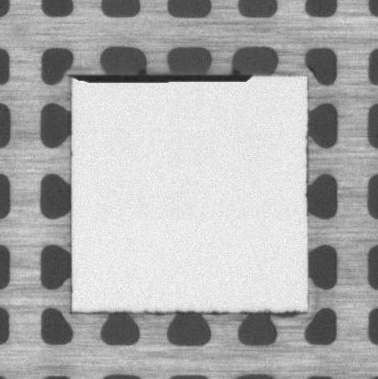DIE_BROKEN: (67, 71, 256, 85)
